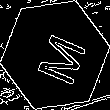M_W: (25, 24, 85, 86)
